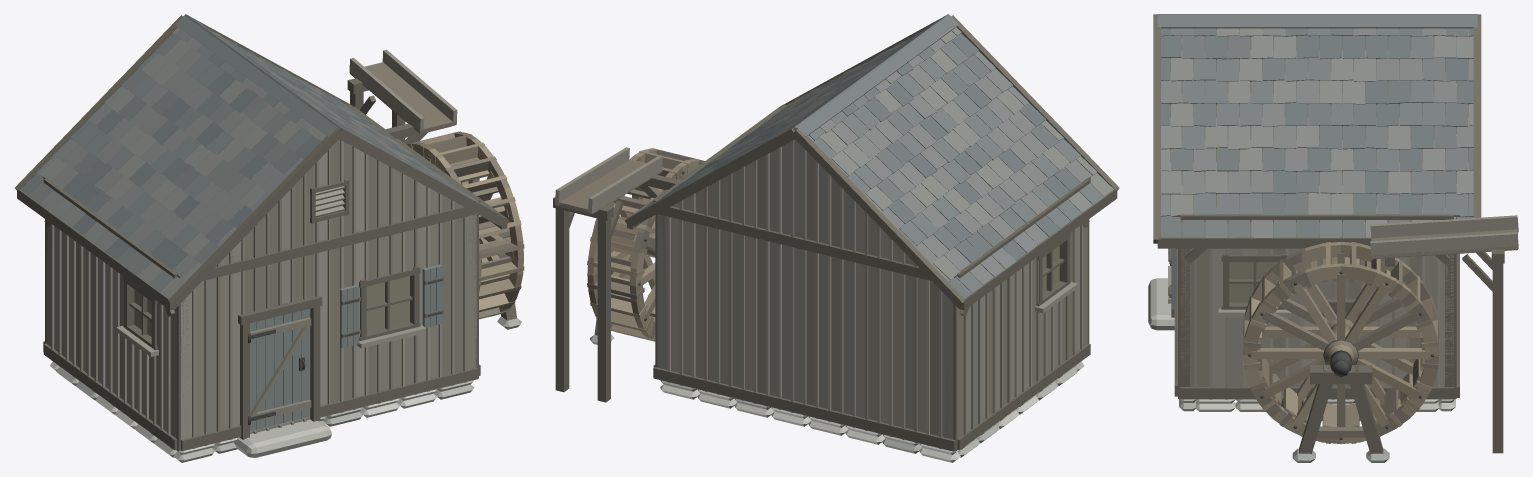
The model's file is mill-D5JTE2Uz.glb.
3 views of the same model, side by side, from view 1: azimuth 30°, elevation 25°; view 2: azimuth 150°, elevation 25°; view 3: azimuth 270°, elevation 25° (orthographic). The views are drawn at different scales.
Visible parts, largest first — view 1: Body, WaterWheel; view 2: Body, WaterWheel; view 3: Body, WaterWheel.
Part boxes in pixels (bbox=[...]): Body: bbox=[15, 14, 521, 462]; WaterWheel: bbox=[407, 131, 524, 319]; Body: bbox=[553, 14, 1119, 462]; WaterWheel: bbox=[587, 148, 704, 341]; Body: bbox=[1148, 14, 1518, 462]; WaterWheel: bbox=[1243, 241, 1439, 444].
Size of the model in its own units: 2 by 1.4 by 1.45.
